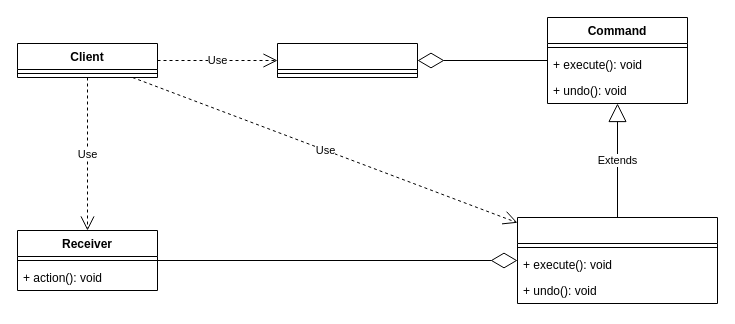
Some shapes in this 735 by 324 pixel diagram are drawn without their labels. Each missing label, with the box of its shape:
ConcreteCommand: (516, 216, 718, 304)
Invoker: (276, 42, 418, 78)
